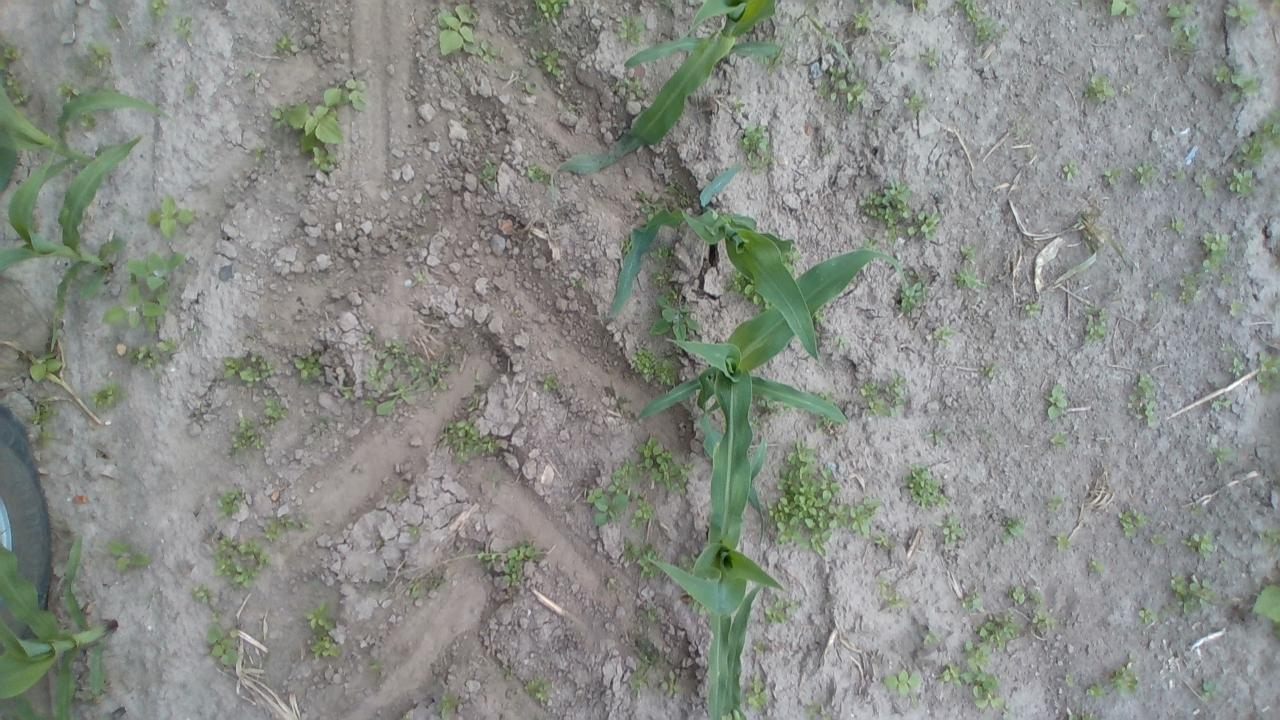Maize: (624, 246, 906, 540), (597, 150, 825, 368), (642, 426, 786, 720), (552, 0, 786, 180), (0, 132, 154, 370), (0, 524, 124, 720), (0, 64, 182, 191), (712, 580, 771, 720)
Weeds: (764, 433, 850, 559), (361, 338, 458, 419), (858, 176, 914, 248), (639, 436, 700, 498), (284, 99, 348, 156), (212, 536, 273, 592), (440, 413, 500, 468), (105, 288, 167, 335), (122, 253, 193, 294), (646, 292, 704, 342), (626, 344, 684, 393), (433, 1, 483, 57), (814, 63, 868, 114), (222, 348, 280, 395), (302, 598, 344, 662), (856, 371, 908, 422), (627, 636, 669, 699), (143, 194, 194, 244), (901, 466, 952, 511), (207, 608, 244, 669), (500, 541, 544, 592), (220, 415, 268, 461), (619, 538, 667, 582), (322, 76, 371, 115), (588, 487, 631, 530), (400, 566, 451, 602), (107, 538, 156, 575), (725, 271, 769, 312), (737, 126, 771, 178), (848, 493, 885, 539), (74, 35, 118, 73), (260, 512, 318, 540), (25, 396, 56, 445), (1189, 576, 1223, 620), (1168, 19, 1206, 57), (90, 377, 128, 415), (898, 270, 932, 312), (976, 612, 1018, 646), (608, 71, 654, 102), (612, 12, 650, 48), (26, 348, 62, 386), (627, 492, 659, 534), (288, 352, 326, 387), (1, 74, 39, 109), (1236, 132, 1270, 171), (1041, 382, 1074, 422), (1080, 304, 1111, 346), (1249, 581, 1280, 623), (610, 456, 646, 492), (758, 598, 803, 626), (1226, 71, 1264, 104), (522, 672, 556, 708), (909, 207, 942, 244), (515, 158, 556, 187), (955, 636, 992, 668), (216, 483, 248, 520), (662, 179, 696, 213), (532, 46, 566, 80), (258, 394, 292, 428), (968, 688, 1012, 714), (743, 675, 773, 712), (971, 16, 1008, 46), (530, 0, 576, 24), (1176, 532, 1218, 558), (170, 13, 198, 52), (1108, 662, 1140, 696), (1117, 510, 1149, 544), (1082, 74, 1118, 104), (1255, 351, 1280, 394), (948, 266, 989, 292), (1023, 608, 1058, 638), (962, 668, 1002, 694), (1168, 576, 1194, 616), (1257, 107, 1280, 152), (1222, 0, 1257, 29), (125, 345, 162, 372), (303, 145, 337, 174), (884, 671, 925, 694), (1227, 166, 1257, 197), (433, 692, 467, 718), (1207, 61, 1237, 90), (270, 104, 298, 135), (1001, 516, 1028, 548), (799, 697, 836, 720), (636, 600, 664, 630), (494, 660, 525, 686), (1131, 161, 1160, 188), (636, 189, 662, 219), (270, 30, 300, 56), (385, 480, 412, 507), (940, 518, 966, 546), (52, 80, 85, 102), (1082, 554, 1112, 578), (1062, 705, 1110, 720), (1202, 232, 1230, 257), (658, 669, 682, 698), (850, 8, 876, 34), (1050, 532, 1078, 556), (102, 12, 130, 36), (1163, 3, 1198, 22), (1142, 398, 1164, 428), (1107, 0, 1140, 20), (1134, 375, 1160, 400), (0, 34, 20, 66), (929, 322, 954, 347), (920, 624, 944, 650), (935, 664, 961, 688), (1058, 160, 1084, 184), (759, 395, 790, 415), (957, 592, 985, 614), (154, 338, 182, 360), (1159, 212, 1188, 233), (568, 274, 592, 299), (478, 157, 498, 187), (1198, 176, 1225, 198), (190, 580, 214, 604), (874, 42, 898, 66), (1136, 603, 1159, 628), (919, 47, 942, 72), (317, 414, 342, 437), (1016, 296, 1042, 318), (683, 599, 711, 619), (475, 546, 498, 570), (954, 239, 978, 262), (1044, 492, 1067, 516), (650, 268, 674, 291), (334, 379, 356, 404), (366, 649, 388, 674), (474, 42, 499, 64), (1209, 445, 1235, 466), (146, 0, 172, 21), (540, 368, 562, 392), (980, 357, 1001, 382), (516, 75, 540, 96), (613, 232, 637, 253), (906, 90, 924, 117), (1225, 357, 1247, 379), (652, 241, 673, 264), (179, 75, 200, 98), (748, 638, 772, 658), (459, 393, 484, 412), (922, 426, 948, 444), (250, 142, 269, 166), (1258, 527, 1280, 547), (783, 246, 797, 277), (1085, 681, 1106, 701), (959, 0, 980, 20), (1100, 166, 1122, 185), (236, 63, 258, 82), (1008, 585, 1026, 608), (1027, 586, 1045, 608), (1210, 398, 1232, 416), (1203, 252, 1225, 270), (860, 236, 880, 255), (811, 308, 830, 328), (1049, 431, 1069, 450), (358, 326, 377, 346), (1188, 503, 1206, 524), (471, 374, 490, 393), (832, 334, 852, 352), (411, 268, 431, 286), (76, 110, 97, 127), (730, 96, 746, 118), (142, 30, 161, 48), (1226, 298, 1246, 315), (874, 536, 895, 552), (1201, 680, 1219, 698), (1148, 288, 1166, 306), (1180, 272, 1200, 288), (405, 523, 425, 539), (1180, 288, 1202, 302), (749, 412, 764, 432), (876, 578, 891, 598), (1062, 672, 1080, 688), (417, 188, 433, 206), (886, 596, 902, 612), (1172, 168, 1188, 184), (911, 0, 930, 13), (814, 416, 834, 428), (1219, 342, 1236, 356), (1152, 532, 1166, 548), (822, 389, 838, 402), (1220, 272, 1234, 286), (1192, 167, 1206, 181), (1127, 392, 1139, 406), (886, 0, 900, 10)
